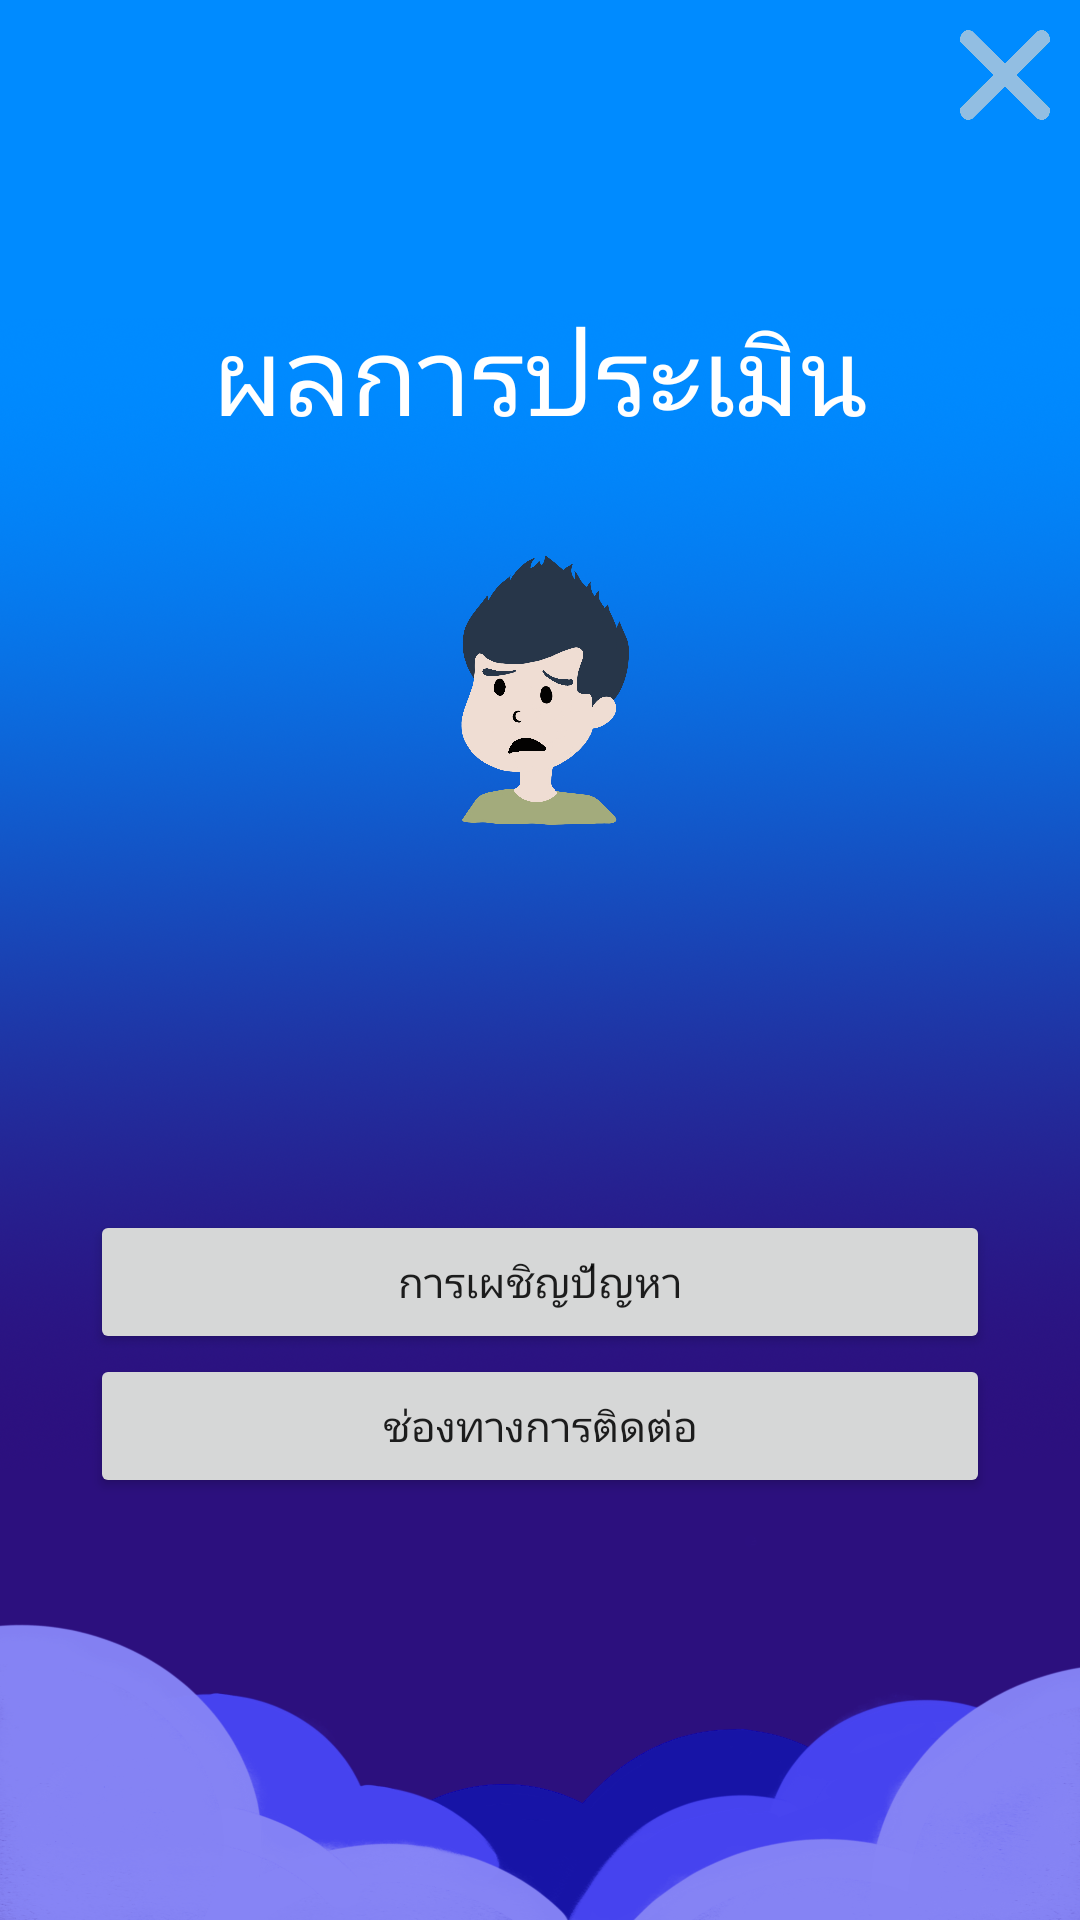

Screen size 1080*1920. Icon name, then its center in pixels as (x=x, y=y):
exit: (x=1005, y=75)
